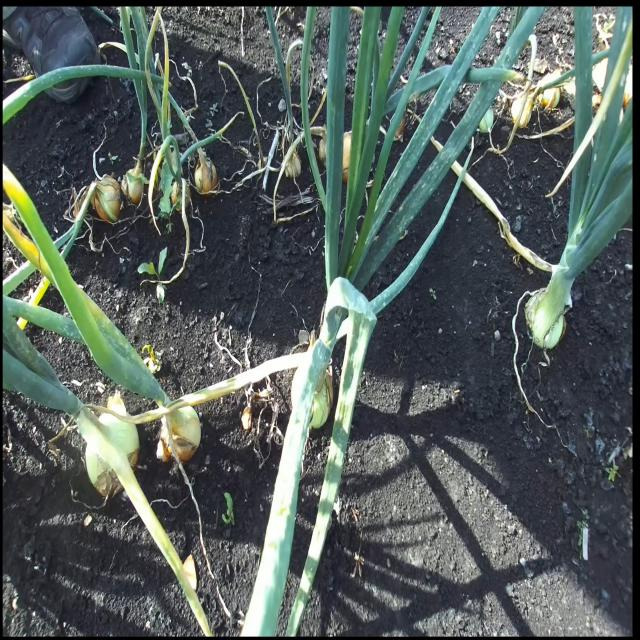onion: (78, 407, 140, 501), (157, 402, 201, 464), (524, 288, 565, 351), (318, 128, 352, 184), (308, 367, 334, 431), (92, 173, 123, 224), (120, 158, 148, 206), (194, 148, 218, 195), (171, 178, 191, 212)
